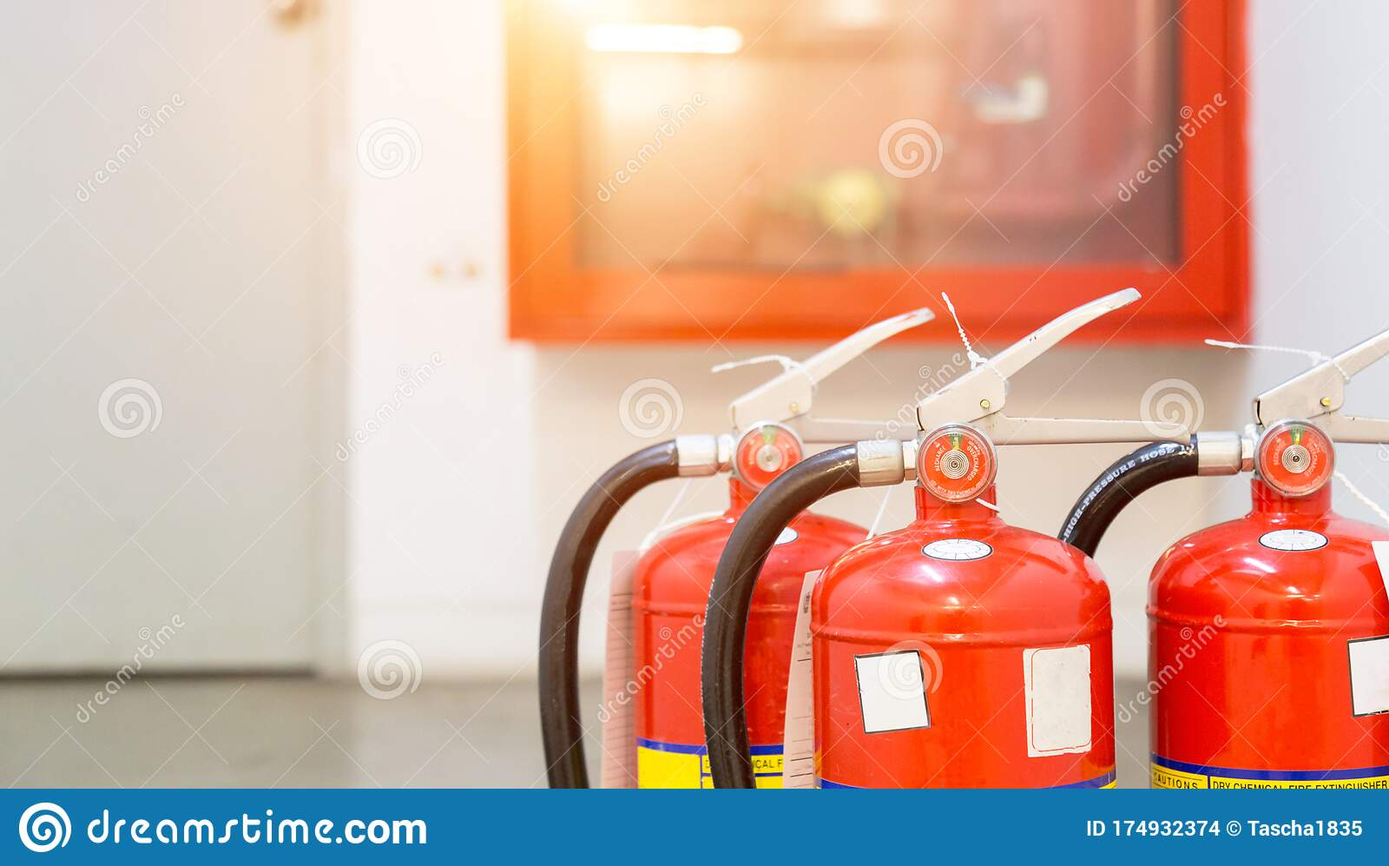fire_extinguisher: (696, 287, 1192, 790), (537, 304, 935, 789), (1056, 329, 1388, 790)
